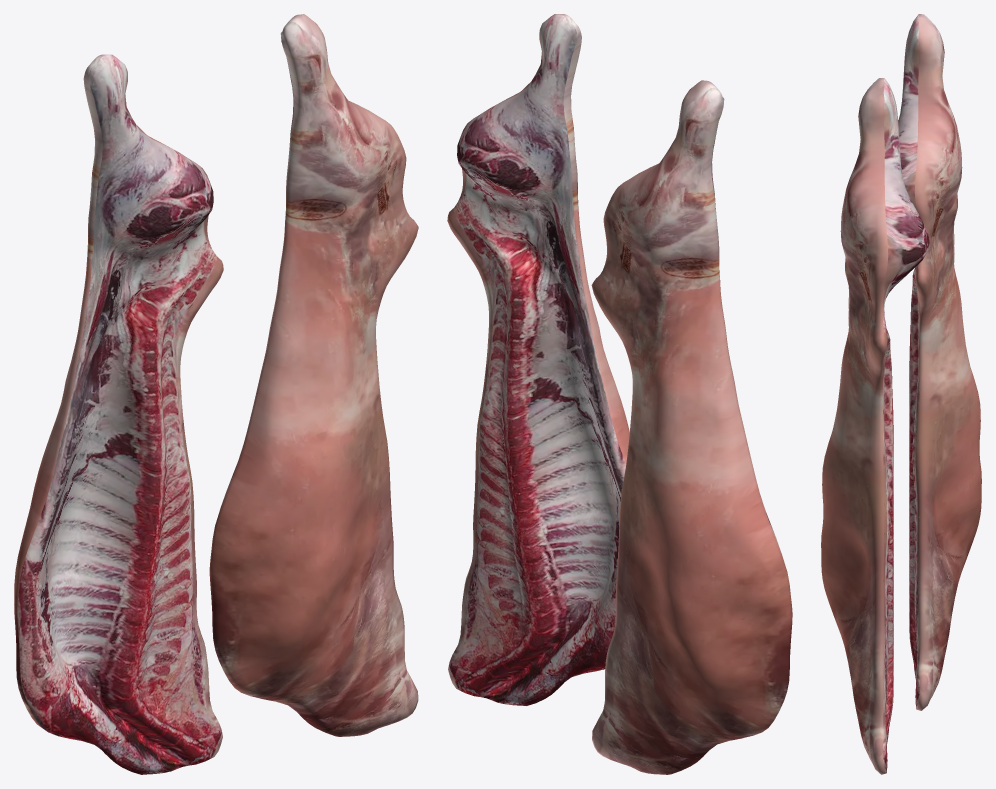
The model's file is x_cerdo_lamb_in_carcass.glb.
3 views of the same model, side by side, from view 1: azimuth 30°, elevation 25°; view 2: azimuth 150°, elevation 25°; view 3: azimuth 270°, elevation 25° (orthographic). The views are drawn at different scales.
Visible parts, largest first — view 1: Object_2; view 2: Object_2; view 3: Object_2.
Boxes of the visible parts, bbox=[...] form: Object_2: bbox=[14, 14, 418, 774]; Object_2: bbox=[447, 14, 792, 774]; Object_2: bbox=[821, 14, 981, 774].
Size of the model in its own units: 0.6386 by 1.2 by 0.2627.
2 materials, 2 textured.
